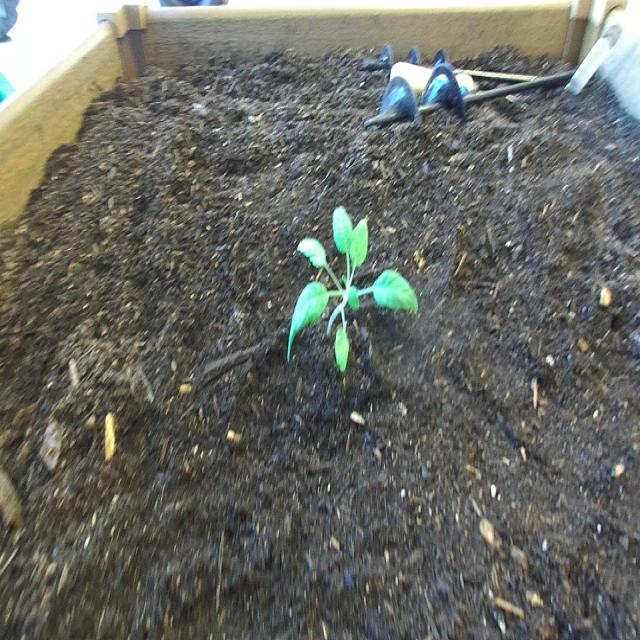Healthy: (285, 203, 423, 380)
